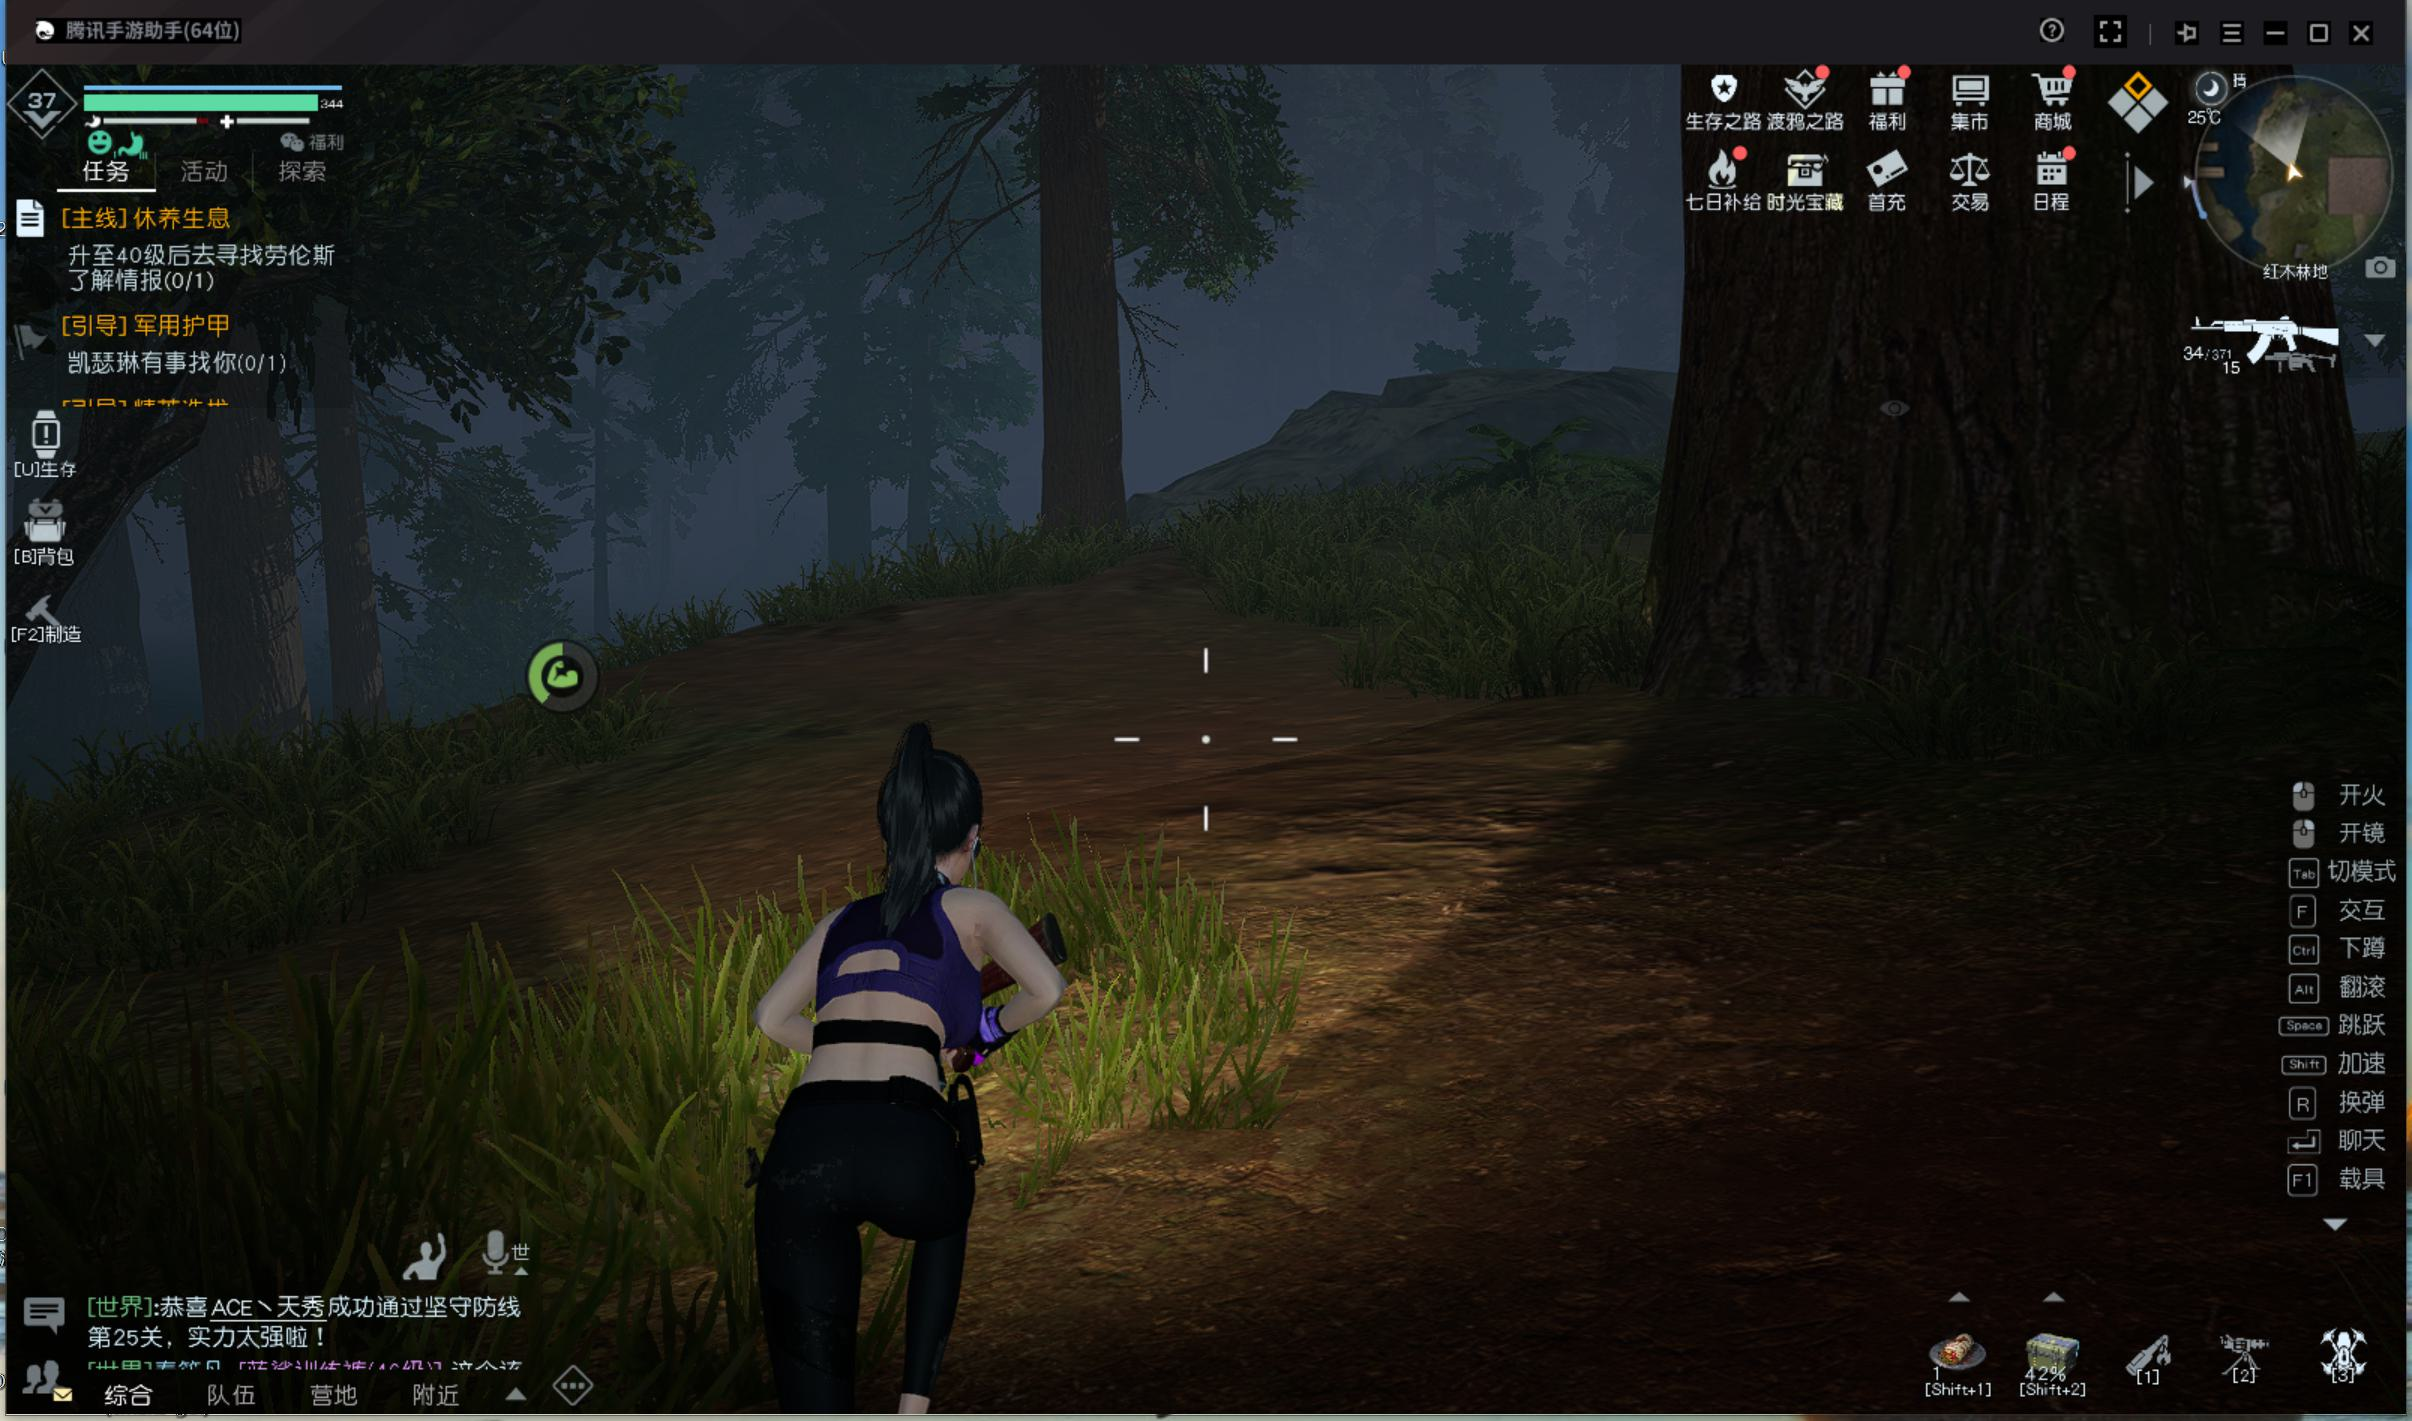tree: (183, 426, 308, 798), (1018, 191, 1133, 568), (316, 413, 394, 751), (815, 342, 873, 597), (903, 357, 942, 580), (589, 430, 617, 650)
